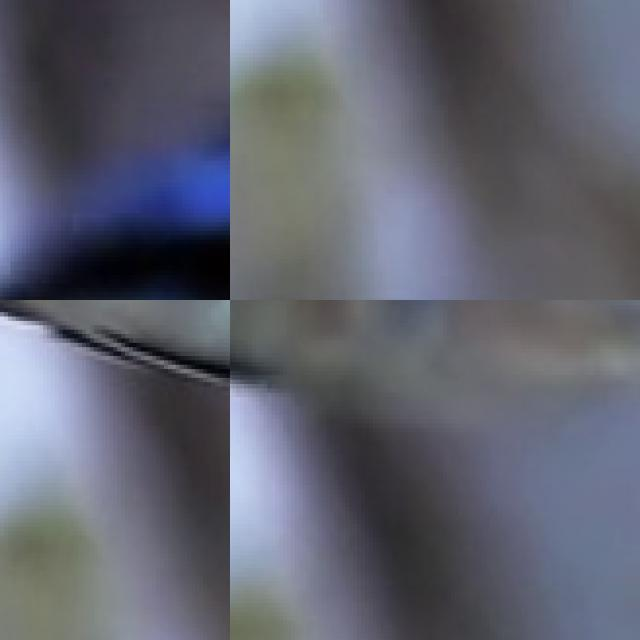fish: (0, 0, 230, 300), (230, 300, 640, 428), (0, 300, 230, 443)
